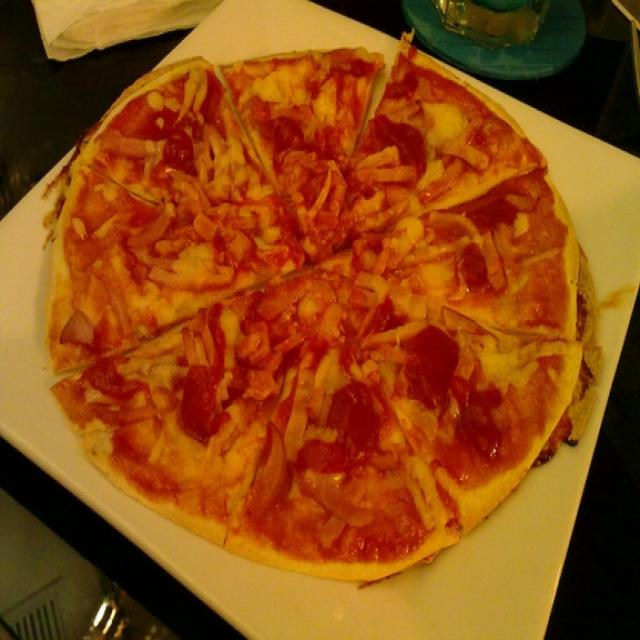面包点心: (33, 34, 588, 581)
